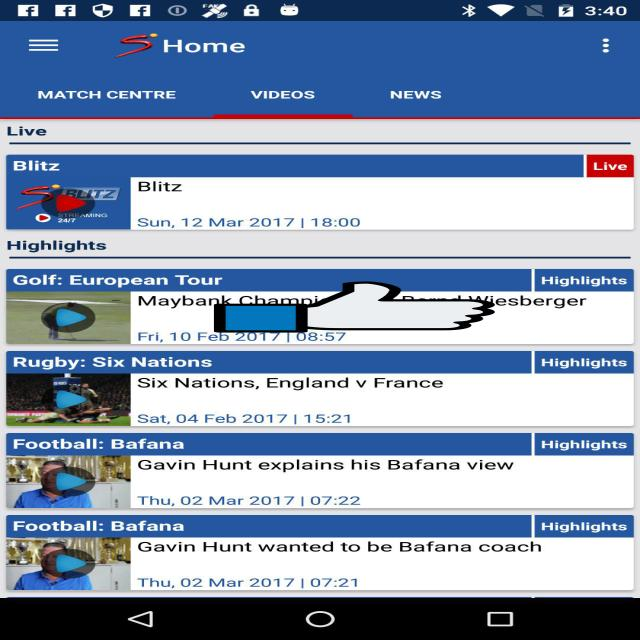privacy zuckering: (214, 280, 495, 334)
